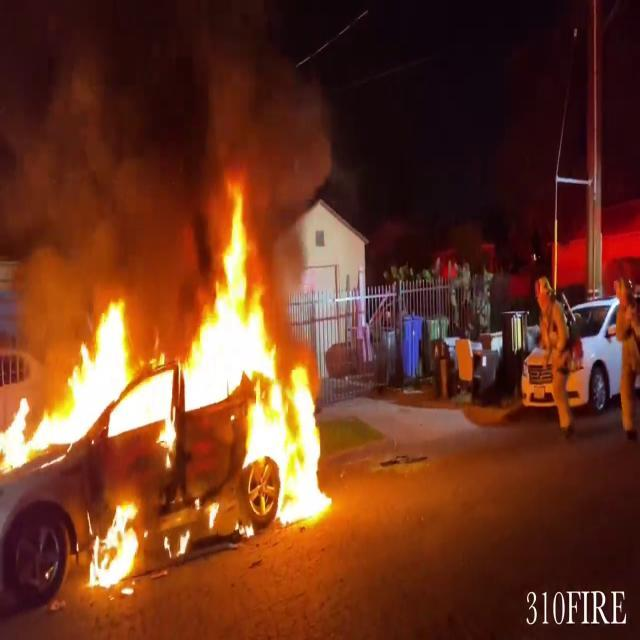Fire: (0, 185, 331, 522), (84, 495, 150, 592)
Smoke: (0, 0, 339, 264)
